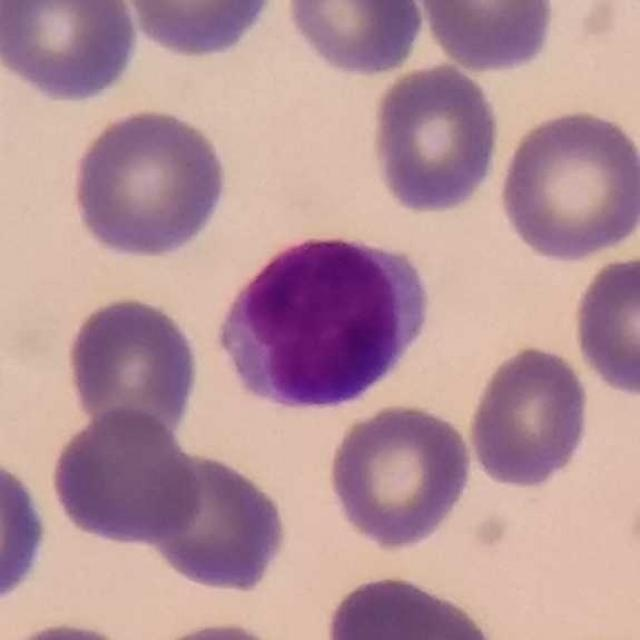Lymphocyte: (208, 225, 438, 416)
RBC: (66, 104, 232, 262), (494, 105, 640, 265), (324, 400, 475, 552), (47, 404, 205, 548), (141, 448, 292, 596), (366, 60, 503, 217), (61, 292, 204, 441), (464, 340, 593, 491), (0, 0, 144, 106), (321, 570, 504, 640), (280, 0, 428, 80), (413, 0, 559, 76), (569, 252, 640, 399), (115, 0, 282, 61), (0, 451, 52, 610), (140, 616, 293, 640), (0, 616, 142, 640)
